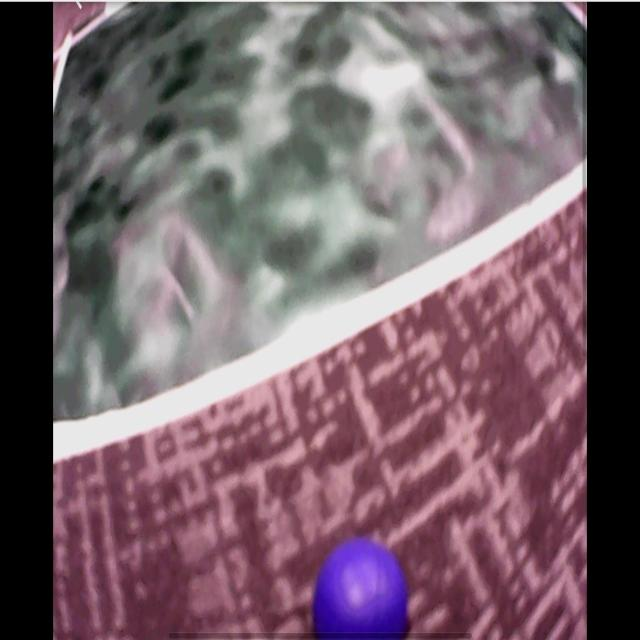ball: (316, 541, 409, 640)
